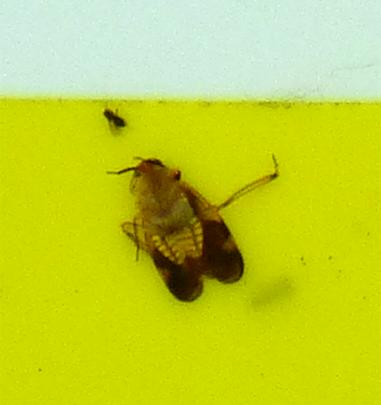Brachycera: (100, 100, 130, 137)
Hemiptera: (107, 155, 281, 305)
